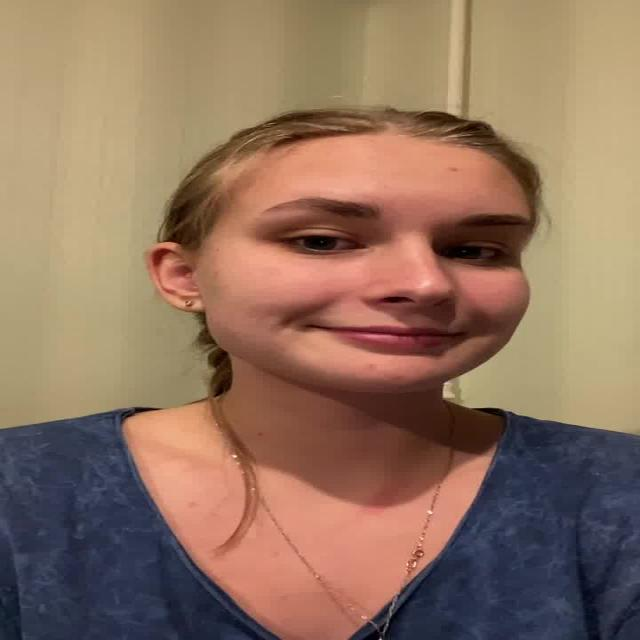earlobe: (147, 242, 207, 314)
